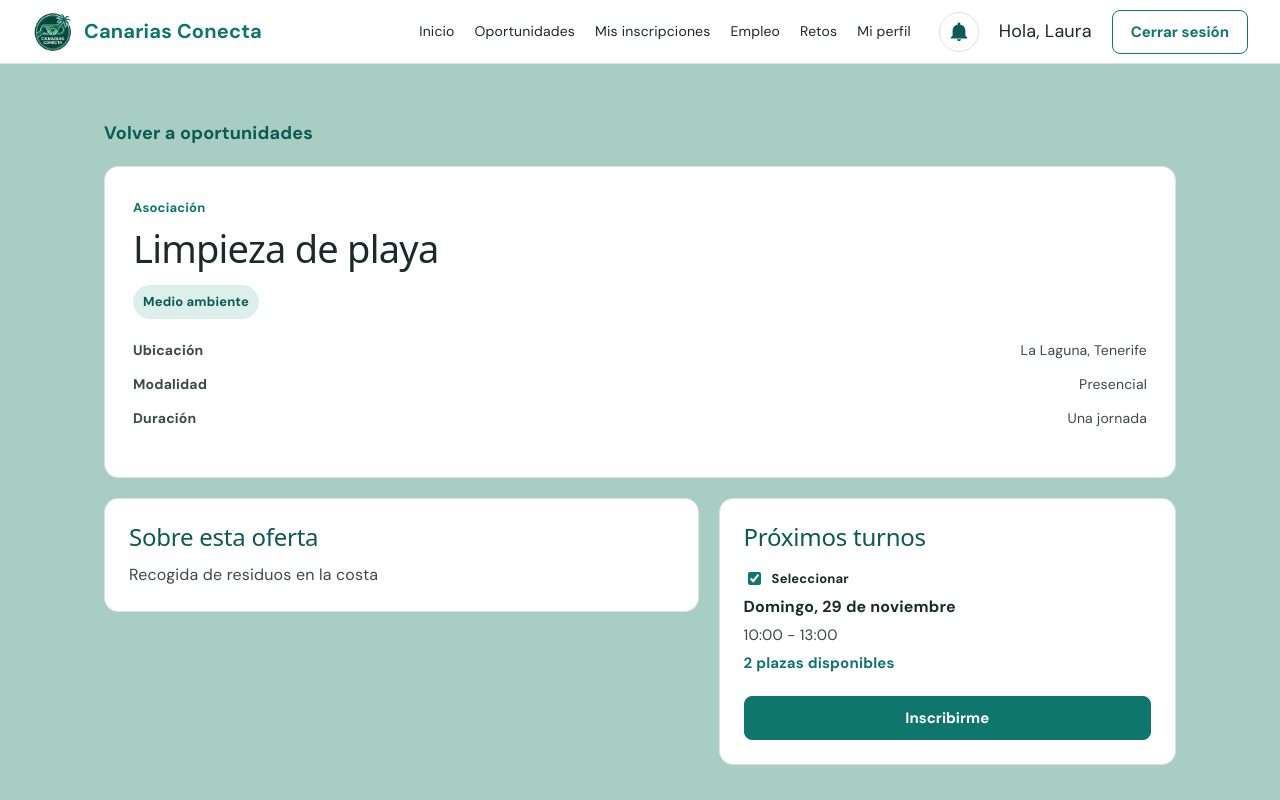
OfertaDetalle › envía la inscripción con los turnos elegidos
The image size is (1280, 800).
Click the button "Inscribirme": (947, 718) [744,696,1151,740]
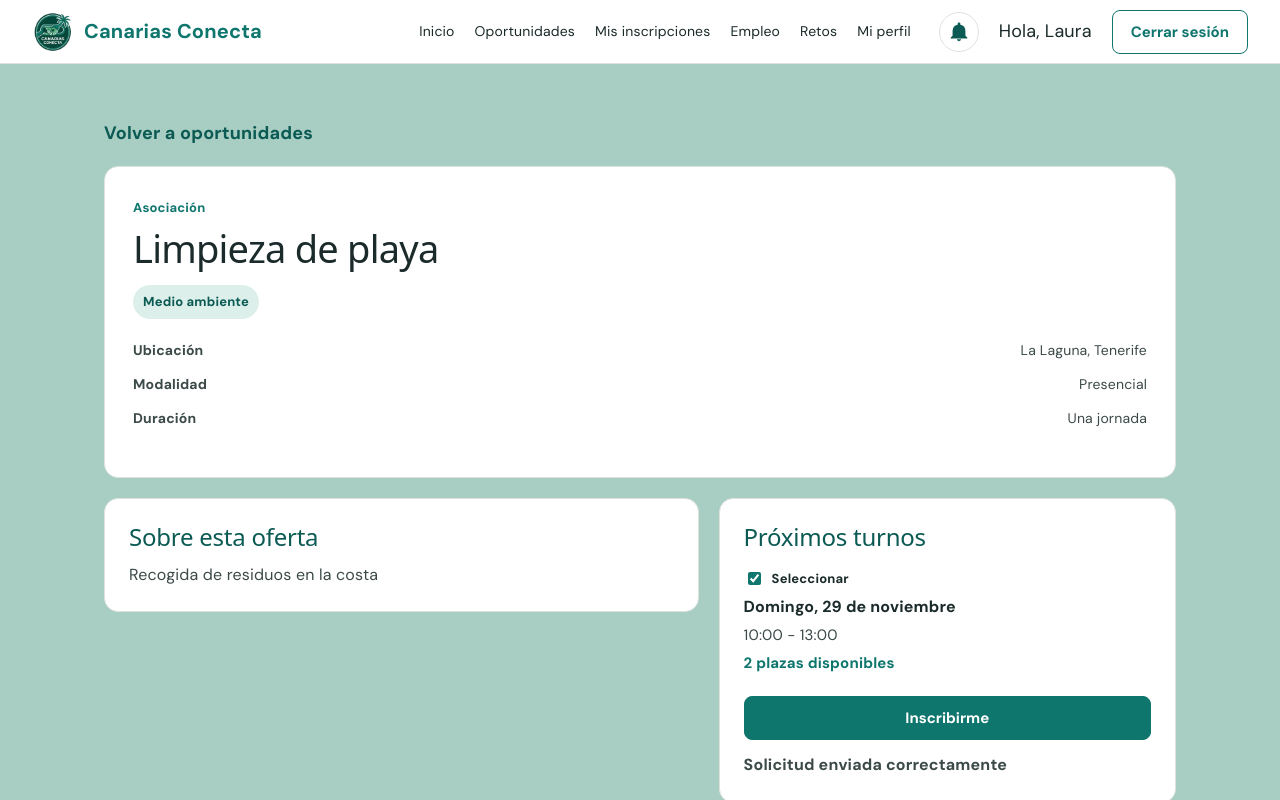
Now the text "Solicitud enviada correctamente" is shown, box [744,754,1007,775]
